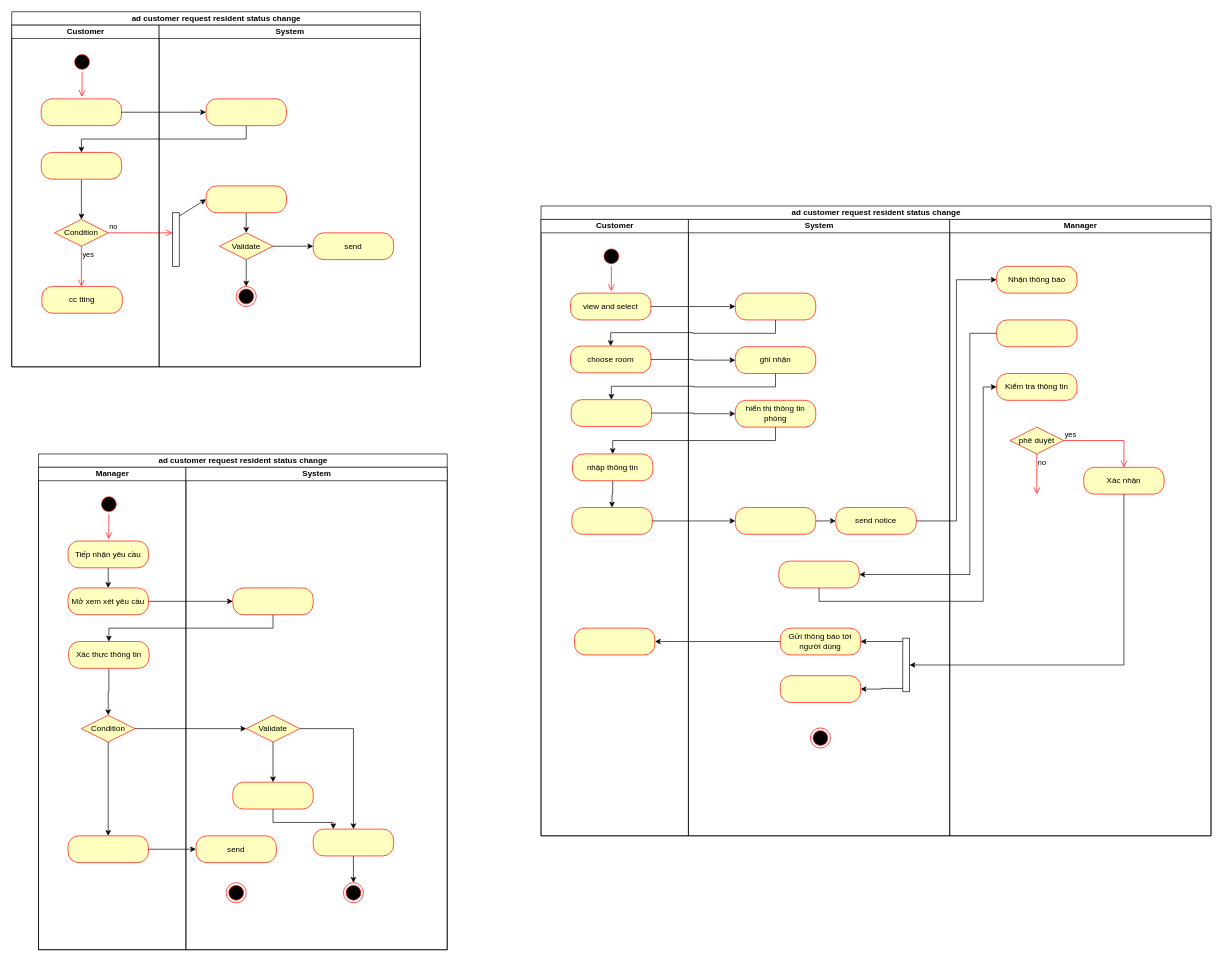
Image size: 1223x961. Some labels were removed from this diagram. Each missing label, with the centre of its shape:
abc: the point at 81,165
Change status: the point at 81,112
Chức năng đặt phòng: the point at 1036,333
ghi nhận yc đặt phòng: the point at 775,520
Hiển thị chi tiết yêu cầu: the point at 272,601
Hiển thị danh sách: the point at 775,306
Hiển thị thông tin yêu cầu: the point at 818,574
Hiển thị thông tin đăng nhập, đăng ký: the point at 245,112
Hệ thống ghi nhận dữ liệu: the point at 245,199
modìy: the point at 353,842
nhập lí do: the point at 107,849
send booking request: the point at 611,412
Thanh toán: the point at 614,641
update: the point at 272,795
Update thông tin: the point at 820,688
ấn xác nhận: the point at 611,520
